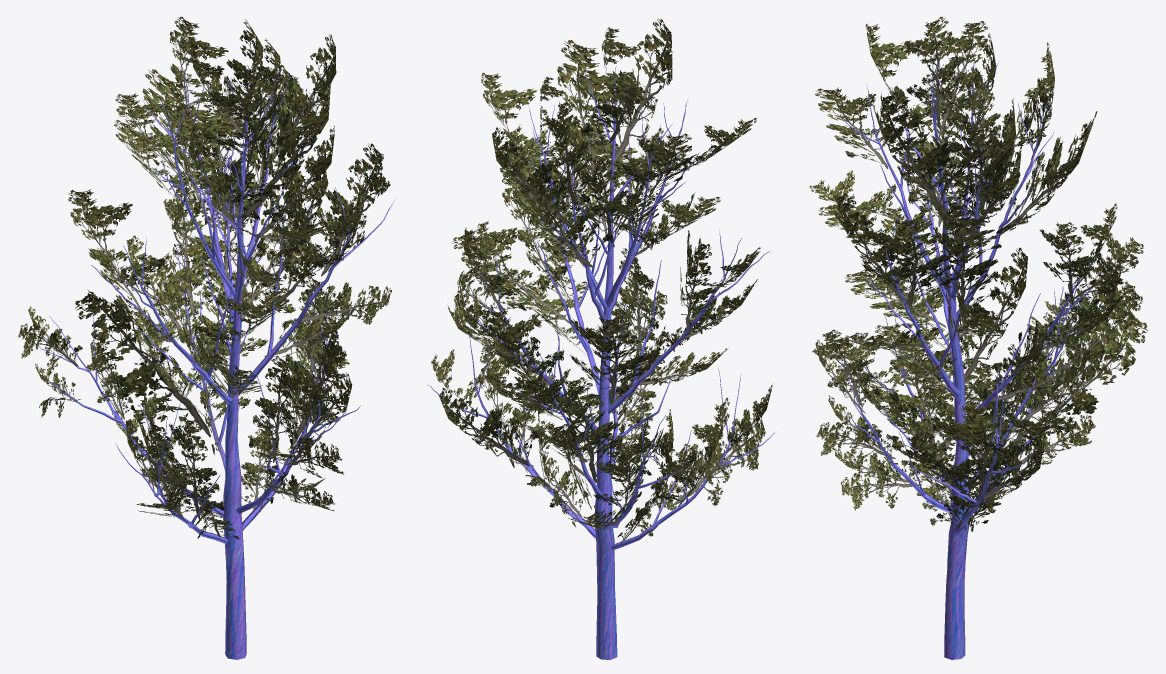
Rendered from Presid_Tree_01.FBX.
3 renders of one model, left to right at view 1: azimuth 30°, elevation 25°; view 2: azimuth 150°, elevation 25°; view 3: azimuth 270°, elevation 25°, orthographic. The views are drawn at different scales.
Parts seen in each view (by area): view 1: Presid_Tree_01; view 2: Presid_Tree_01; view 3: Presid_Tree_01.
Part boxes in pixels (x1,y1,x2,y2): Presid_Tree_01: [17, 16, 395, 659]; Presid_Tree_01: [427, 18, 775, 659]; Presid_Tree_01: [809, 16, 1147, 659].
Size of the model in its own units: 4.41 by 8.93 by 4.34.
